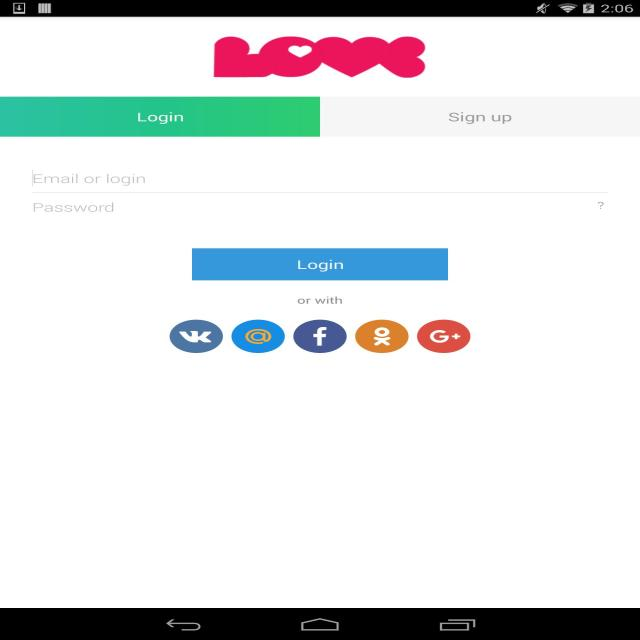button: (321, 96, 640, 140), (4, 97, 321, 137), (191, 248, 448, 280), (165, 317, 226, 355), (226, 318, 288, 355), (288, 318, 350, 355), (350, 317, 410, 353), (414, 318, 474, 354)
field: (28, 166, 610, 193), (30, 193, 611, 220)
image: (209, 36, 428, 80)
label: (31, 172, 149, 184), (29, 202, 119, 214)
text: (296, 297, 343, 306)
